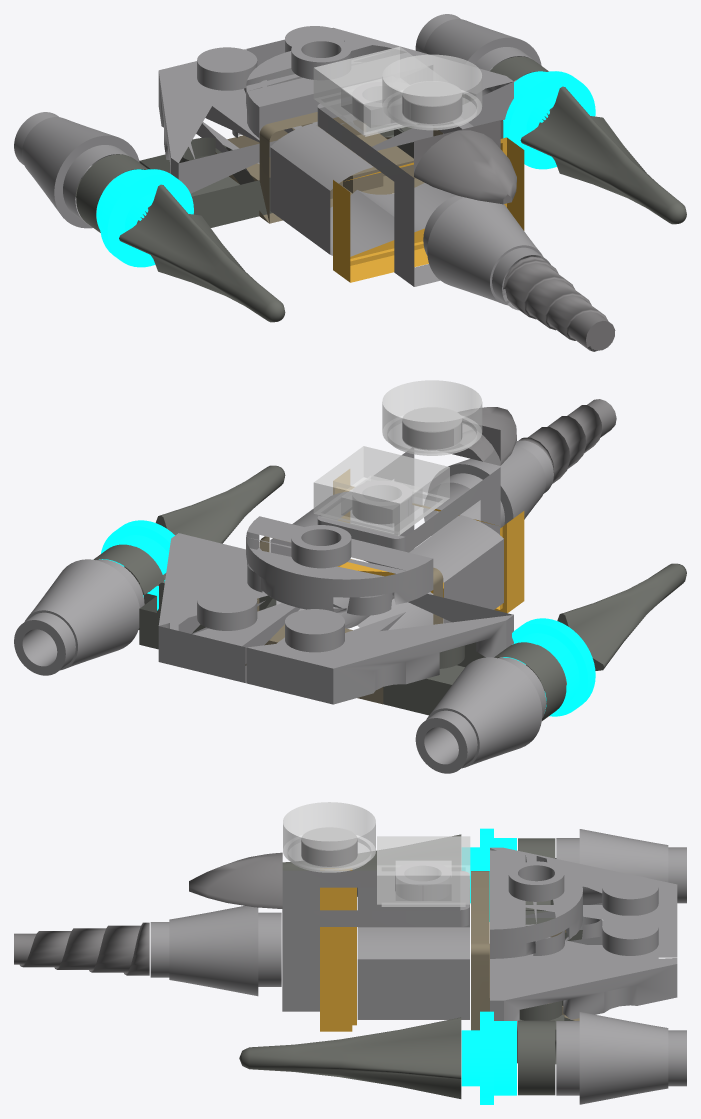
Rendered from nano-n1-planet.glb.
The picture shows the model from 3 angles, top to bottom: view 1: azimuth 30°, elevation 25°; view 2: azimuth 150°, elevation 25°; view 3: azimuth 270°, elevation 25°; orthographic projection. The views are drawn at different scales.
Parts seen in each view (by area): view 1: nano-n1; view 2: nano-n1; view 3: nano-n1.
Boxes of the visible parts, x1,y1,x2,y2 form: nano-n1: (14, 14, 686, 351); nano-n1: (14, 380, 686, 773); nano-n1: (14, 802, 686, 1104).
Size of the model in its own units: 1.12 by 0.439 by 1.43.
